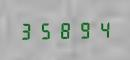eight: (56, 20, 74, 39)
five: (37, 20, 55, 40)
four: (94, 19, 112, 39)
nine: (75, 19, 93, 39)
three: (18, 20, 36, 40)
